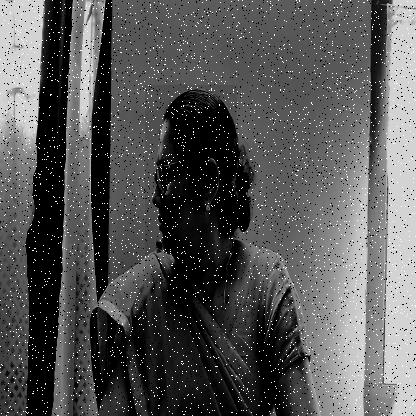Distracted: (145, 85, 237, 281)
